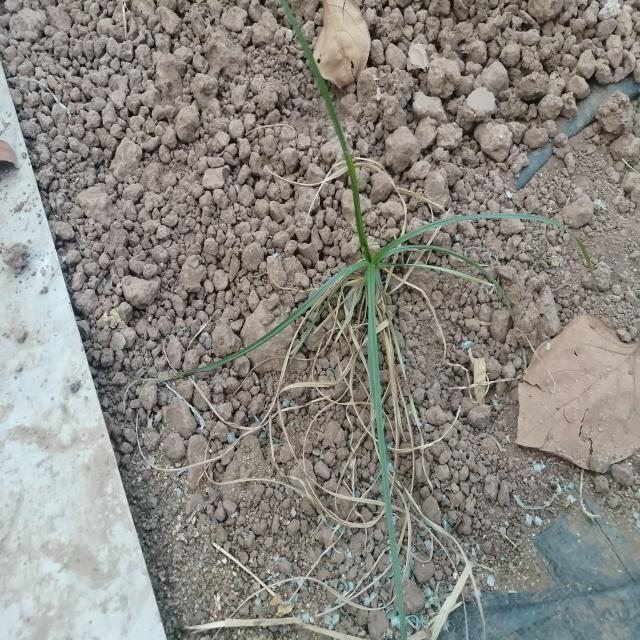sedge: (218, 26, 498, 500)
